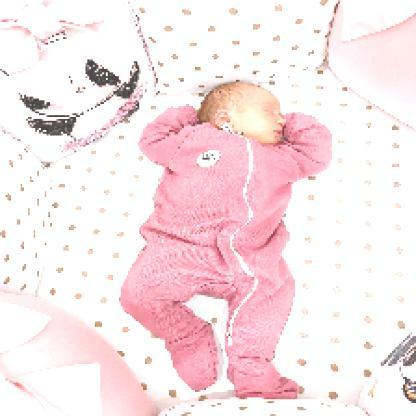child: (119, 81, 335, 401)
